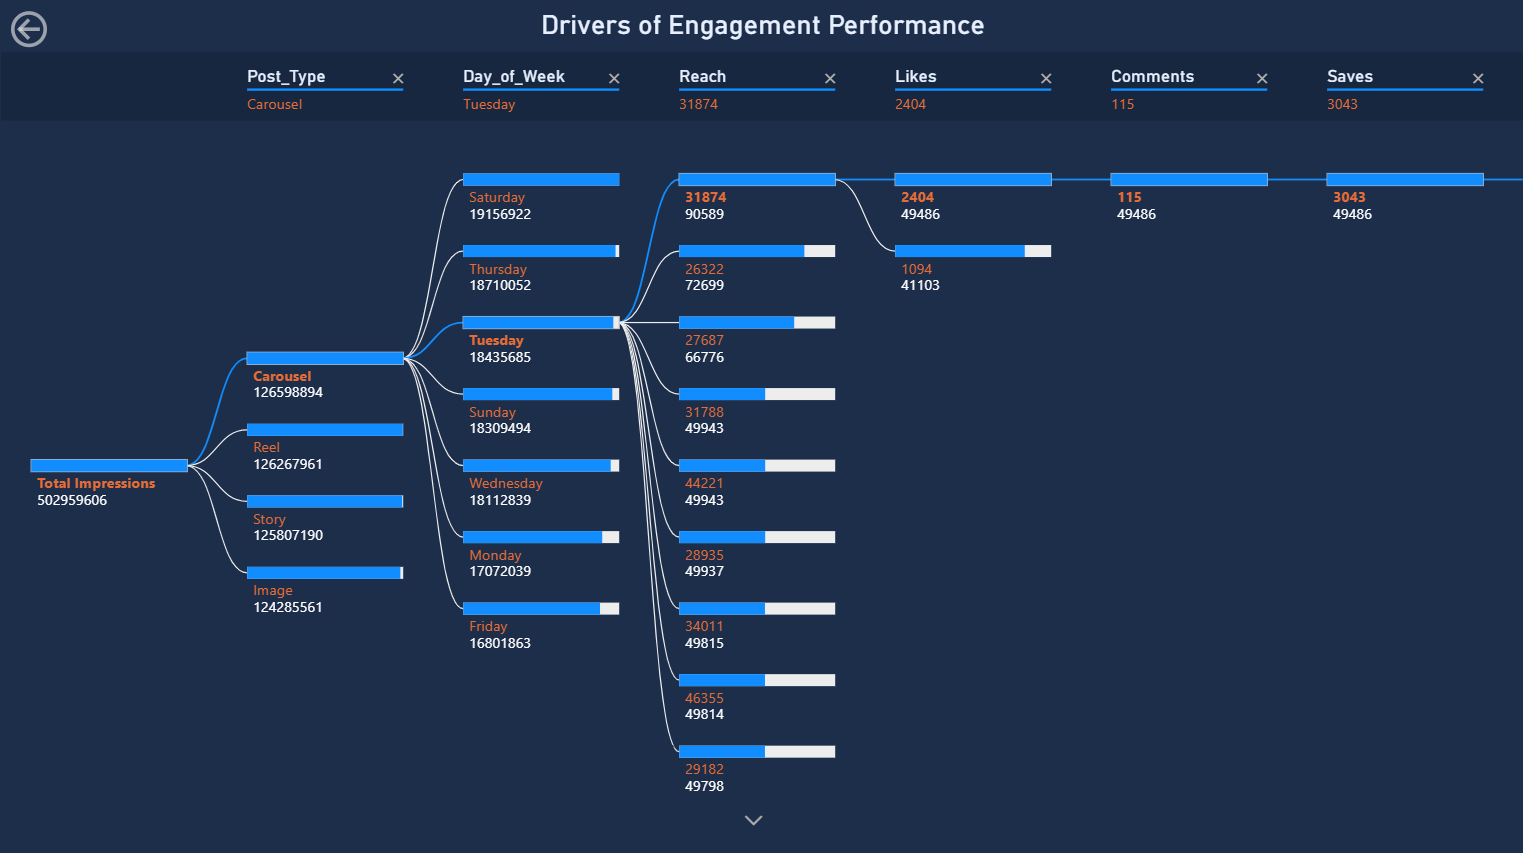

This screenshot's page, from the dashboard's own definition file:
{"tool":"powerbi","page":{"name":"Decomposition Full View","canvas":[1280,720],"ordinal":1},"visuals":[{"type":"decompositionTreeVisual","title":"Drivers of Engagement Performance","fields":{"ExplainBy":["datasets.Post_Type","datasets.Day_of_Week","datasets.Reach","datasets.Likes","datasets.Comments","datasets.Saves","datasets.Shares","datasets.Hashtags_Count","datasets.Caption_Length"],"Analyze":["datasets.Total Impressions"]},"box":[0,0,1280,719.5],"z":2000},{"type":"actionButton","box":[8.8,6.2,40,41.2],"z":3001}]}

Visuals, with their boxes in screenshot pixels (x1, y1, x2, y2), scaled from the page's 1280x720 canvas onto the 1523x853 screenshot:
"Drivers of Engagement Performance" decompositionTreeVisual: box(0, 0, 1522, 852)
actionButton: box(10, 7, 58, 56)
